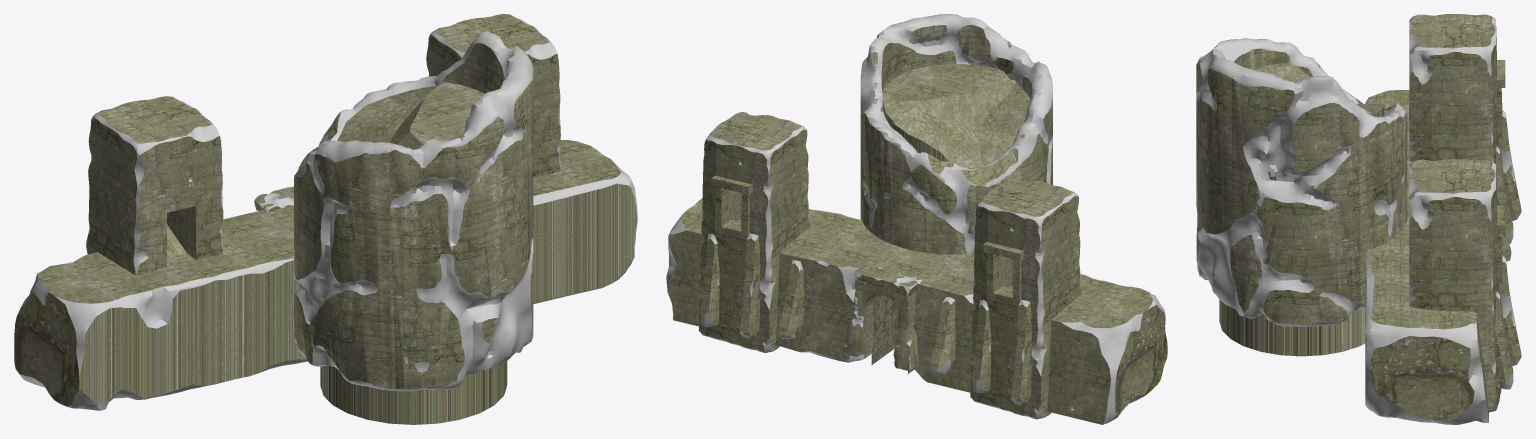
The model's file is SM_Chateaux_06_10.fbx.
The picture shows the model from 3 angles, left to right: view 1: azimuth 30°, elevation 25°; view 2: azimuth 150°, elevation 25°; view 3: azimuth 270°, elevation 25°; orthographic projection. The views are drawn at different scales.
Visible parts, largest first — view 1: SM_Chateaux_06_10; view 2: SM_Chateaux_06_10; view 3: SM_Chateaux_06_10.
Part boxes in pixels (bbox=[...]): SM_Chateaux_06_10: bbox=[14, 14, 637, 424]; SM_Chateaux_06_10: bbox=[666, 14, 1167, 424]; SM_Chateaux_06_10: bbox=[1196, 14, 1521, 424].
Size of the model in its own units: 4212 by 2312 by 2401.
